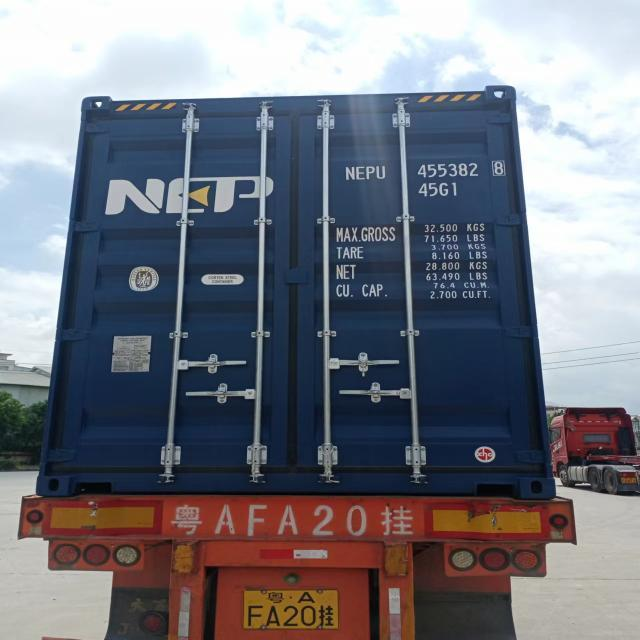ISO: (420, 181, 460, 199)
container_number: (348, 160, 504, 180), (245, 606, 338, 628)
